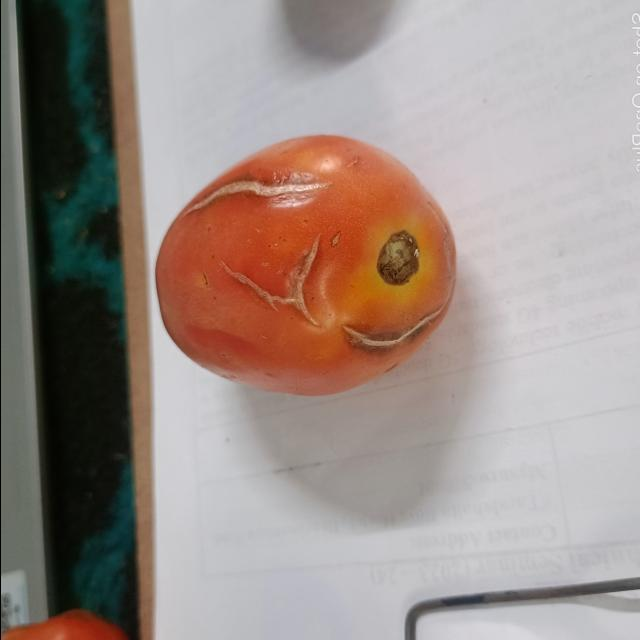tomato_cracking: (214, 229, 326, 335), (180, 173, 337, 223), (338, 296, 445, 355)
